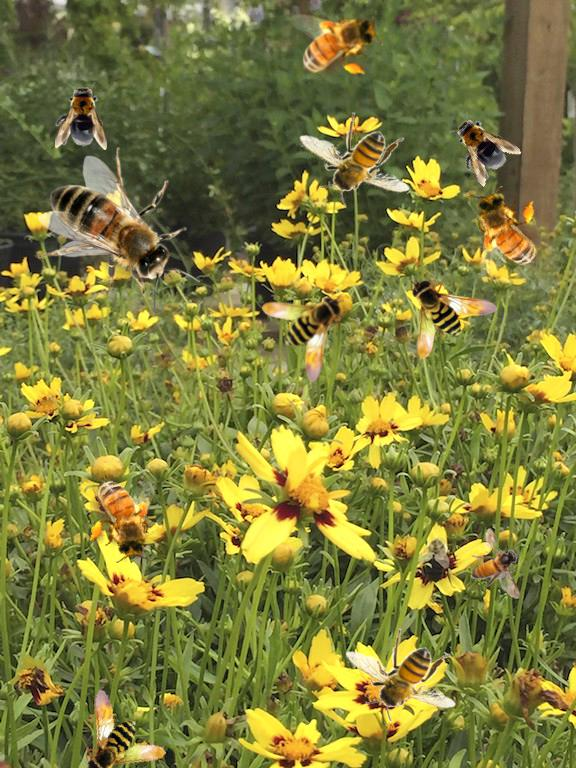Bee: (38, 147, 200, 314), (299, 112, 410, 206), (345, 628, 456, 722), (69, 678, 169, 768), (83, 466, 163, 567), (467, 182, 545, 283), (437, 103, 523, 189), (410, 277, 498, 359), (262, 295, 344, 383), (290, 10, 383, 78), (471, 528, 521, 599), (55, 82, 107, 150)
